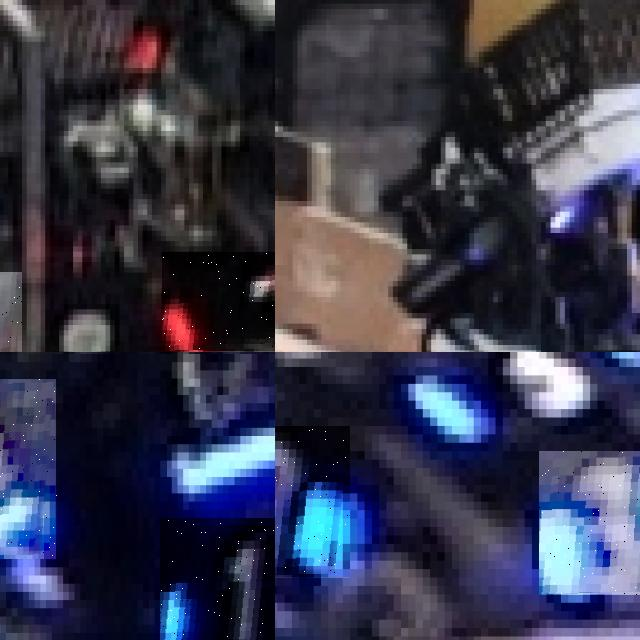B1: (160, 518, 275, 640), (0, 378, 57, 559)
B3: (539, 451, 640, 594), (275, 425, 349, 577)
R1: (161, 251, 275, 351)
